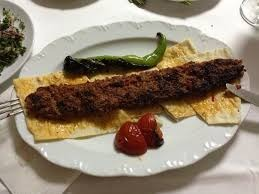kebap: (25, 58, 244, 119)
